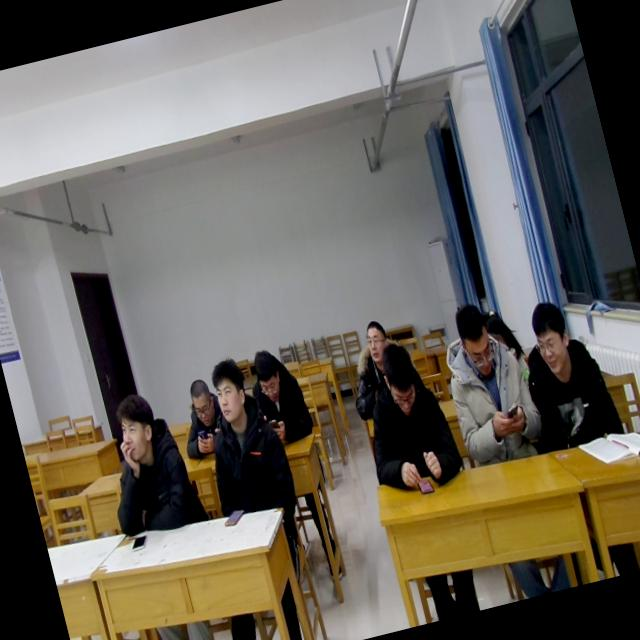bow: (240, 340, 316, 452), (168, 370, 235, 465)
down: (446, 298, 502, 384), (522, 294, 578, 378), (370, 336, 424, 422), (245, 339, 286, 402), (181, 371, 219, 426)
lookup: (106, 386, 166, 470), (203, 348, 254, 428), (353, 314, 392, 368)
sit: (184, 346, 301, 522), (431, 292, 547, 469), (346, 331, 468, 498), (507, 288, 625, 452), (86, 382, 205, 542), (334, 313, 414, 424)
